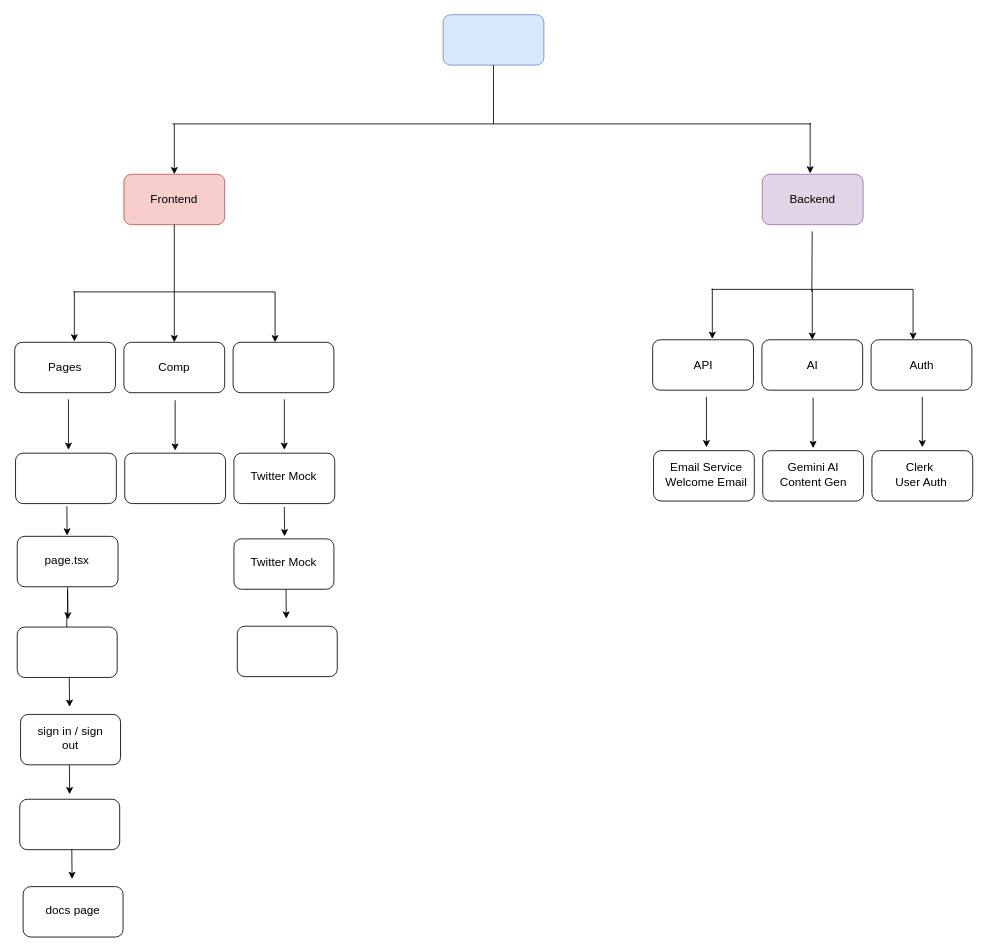
This 988x952 diagram has some shape labels left out. The shapes that lost their labels are listed below. From the top down, each one's box as (x1, y1, x2, y2) in pixels, then its label:
(442, 14, 544, 65): Flash
(232, 341, 334, 393): Mocks
(15, 452, 116, 504): layout.tsx
(124, 452, 226, 504): Navbar.tsx
(16, 626, 117, 677): generate page
(236, 625, 337, 677): LinkedIn Mock
(19, 798, 120, 850): Pricing page
